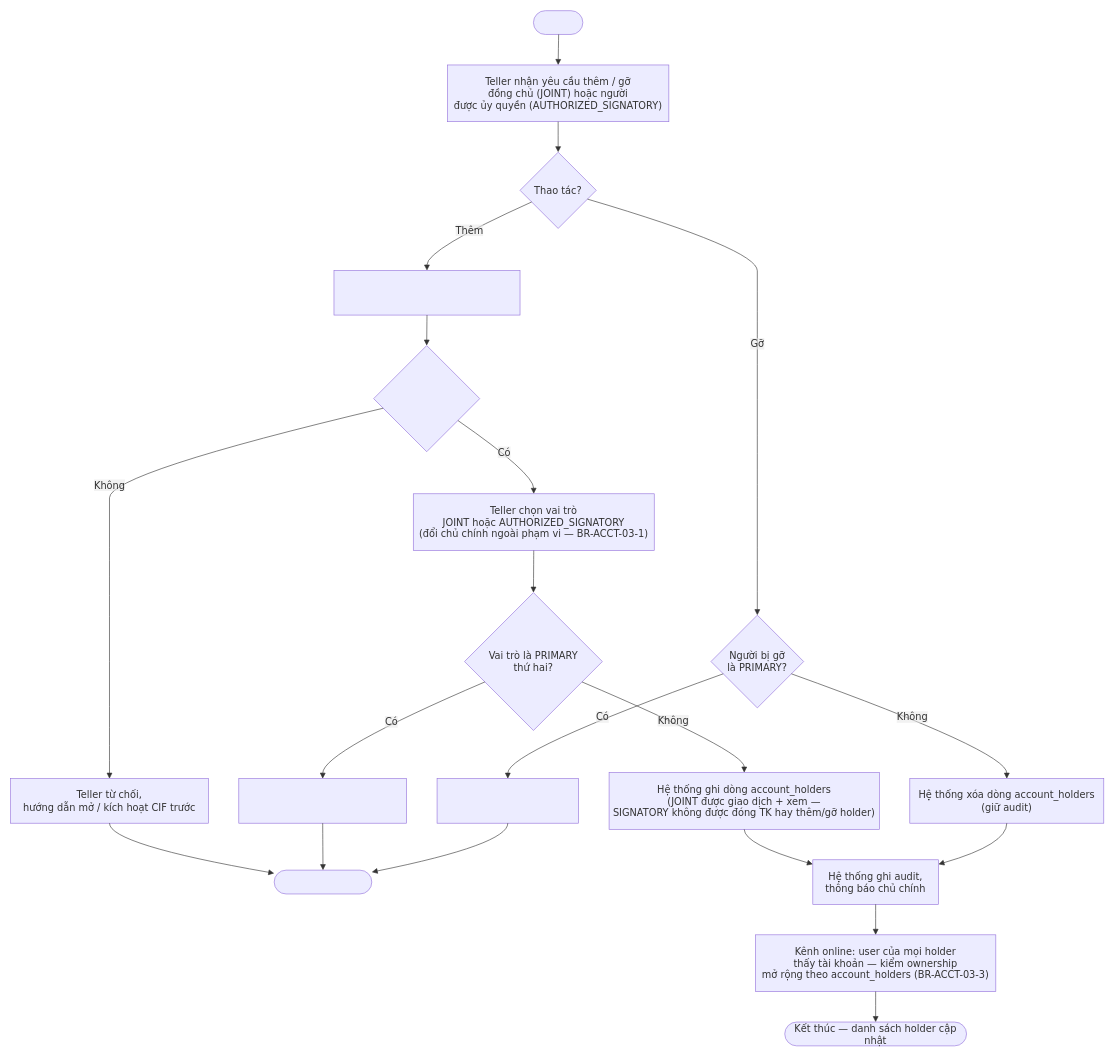
Some shapes in this 1114 by 1057 pixel diagram are drawn without their labels. The box of each missing label's shape, as (x1, y1, x2, y2) in pixels:
Bắt đầu: (533, 10, 583, 34)
Cả hai đều có CIF ACTIVE?: (373, 345, 480, 452)
DB chặn bằng ràng buộc uq_account_one_primary (E2): (238, 778, 407, 823)
Hệ thống từ chối — không gỡ được PRIMARY: (436, 778, 579, 823)
Kết thúc — từ chối: (274, 870, 372, 894)
Teller xác minh giấy tờ của chủ chính + người được thêm: (333, 270, 520, 315)
